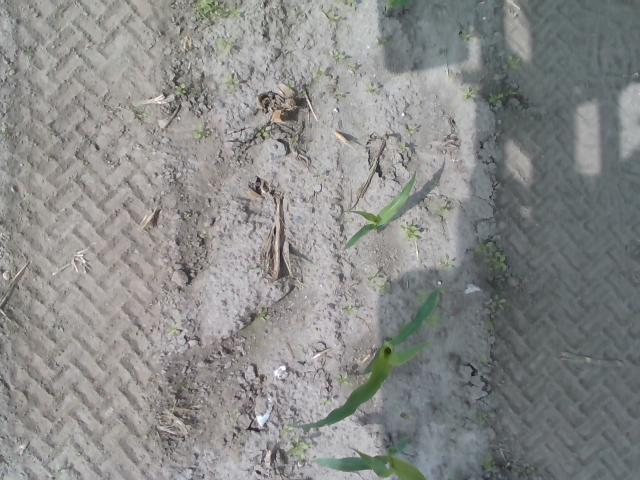Maize: (296, 286, 446, 434), (340, 170, 418, 248), (312, 438, 427, 480), (382, 0, 413, 19)
Weeds: (478, 239, 506, 270), (193, 0, 242, 17), (293, 436, 312, 462), (400, 221, 420, 243), (367, 271, 385, 295), (126, 104, 150, 120), (502, 54, 522, 72), (480, 450, 496, 472), (334, 370, 354, 387), (192, 118, 206, 139), (489, 294, 507, 310), (472, 409, 488, 426), (426, 314, 442, 330), (414, 286, 428, 304), (224, 73, 240, 88), (311, 63, 326, 79), (441, 256, 456, 271), (488, 90, 504, 104), (463, 87, 478, 100), (255, 125, 270, 137), (216, 38, 232, 49), (174, 83, 187, 96), (280, 424, 292, 438), (367, 81, 378, 96), (342, 305, 354, 316), (166, 322, 177, 334), (478, 354, 490, 365), (256, 311, 268, 321), (334, 50, 346, 60), (462, 31, 472, 43), (405, 126, 414, 138), (398, 142, 408, 152), (334, 0, 354, 4), (436, 207, 448, 213)
